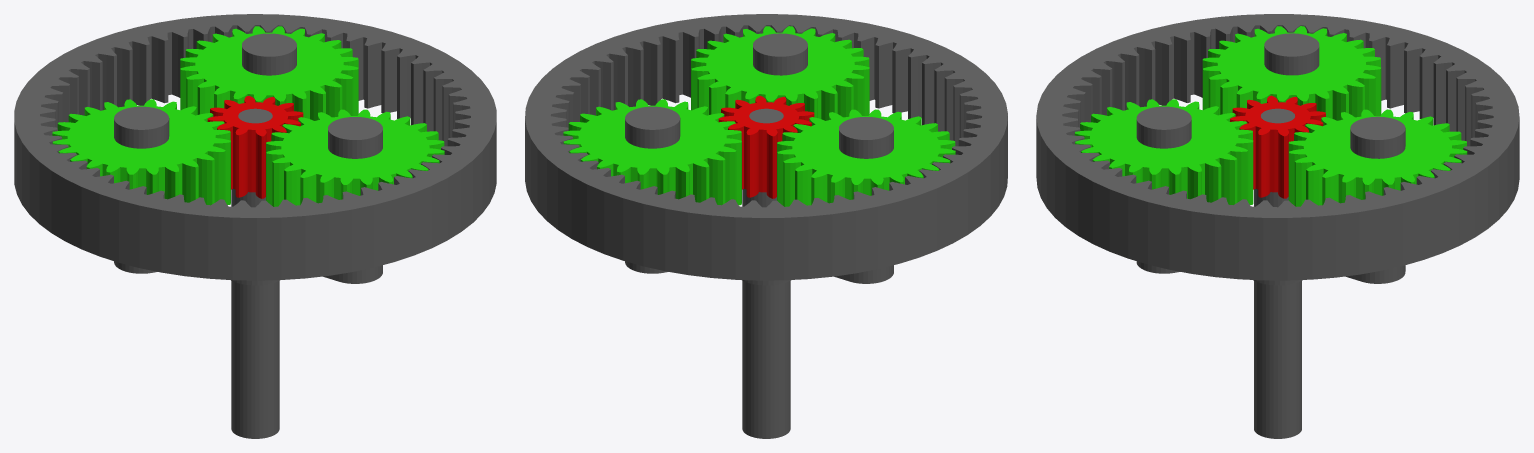
The model's file is asset.glb.
3 renders of one model, left to right at view 1: azimuth 30°, elevation 25°; view 2: azimuth 150°, elevation 25°; view 3: azimuth 270°, elevation 25°, orthographic.
Parts seen in each view (by area): view 1: Assembly - Internal Spur Gear Iso-1, Assembly - Spur Gear Iso-3, Assembly - Spur Gear Iso-4, Assembly - Spur Gear Iso-2, Assembly - Input Shaft-1, Assembly - Plantary Gear Carrier-1, Assembly - Spur Gear Iso-1; view 2: Assembly - Internal Spur Gear Iso-1, Assembly - Spur Gear Iso-4, Assembly - Spur Gear Iso-2, Assembly - Spur Gear Iso-3, Assembly - Input Shaft-1, Assembly - Plantary Gear Carrier-1, Assembly - Spur Gear Iso-1; view 3: Assembly - Internal Spur Gear Iso-1, Assembly - Spur Gear Iso-2, Assembly - Spur Gear Iso-3, Assembly - Spur Gear Iso-4, Assembly - Input Shaft-1, Assembly - Plantary Gear Carrier-1, Assembly - Spur Gear Iso-1.
Boxes of the visible parts, bbox=[...] form: Assembly - Internal Spur Gear Iso-1: bbox=[14, 14, 496, 280]; Assembly - Spur Gear Iso-3: bbox=[52, 99, 230, 205]; Assembly - Spur Gear Iso-4: bbox=[180, 26, 358, 120]; Assembly - Spur Gear Iso-2: bbox=[266, 109, 444, 206]; Assembly - Input Shaft-1: bbox=[231, 108, 279, 438]; Assembly - Plantary Gear Carrier-1: bbox=[114, 33, 382, 285]; Assembly - Spur Gear Iso-1: bbox=[207, 96, 303, 198]; Assembly - Internal Spur Gear Iso-1: bbox=[525, 14, 1007, 280]; Assembly - Spur Gear Iso-4: bbox=[563, 99, 741, 205]; Assembly - Spur Gear Iso-2: bbox=[691, 26, 869, 120]; Assembly - Spur Gear Iso-3: bbox=[777, 109, 955, 206]; Assembly - Input Shaft-1: bbox=[742, 108, 790, 438]; Assembly - Plantary Gear Carrier-1: bbox=[625, 33, 893, 285]; Assembly - Spur Gear Iso-1: bbox=[718, 95, 814, 198]; Assembly - Internal Spur Gear Iso-1: bbox=[1036, 14, 1519, 280]; Assembly - Spur Gear Iso-2: bbox=[1074, 99, 1253, 204]; Assembly - Spur Gear Iso-3: bbox=[1202, 26, 1381, 120]; Assembly - Spur Gear Iso-4: bbox=[1288, 109, 1467, 206]; Assembly - Input Shaft-1: bbox=[1254, 108, 1301, 438]; Assembly - Plantary Gear Carrier-1: bbox=[1136, 33, 1405, 285]; Assembly - Spur Gear Iso-1: bbox=[1230, 95, 1325, 198].
Bounding box in the file's own units: 69.94 × 53 × 70.
